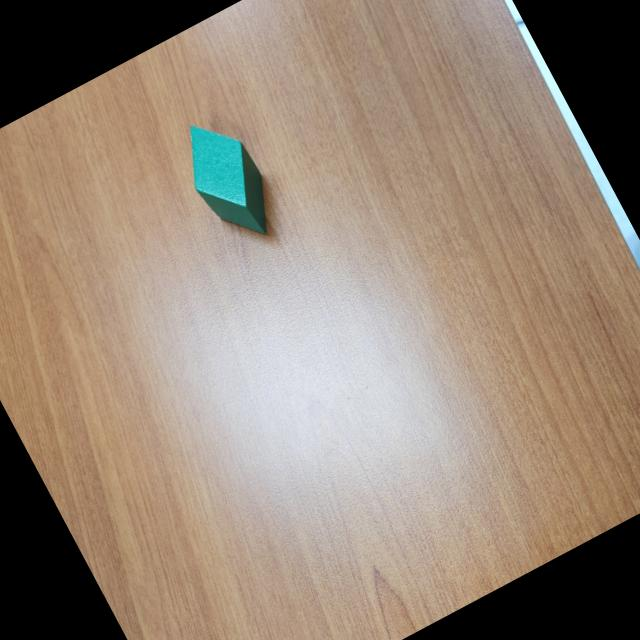green: (168, 106, 288, 254)
